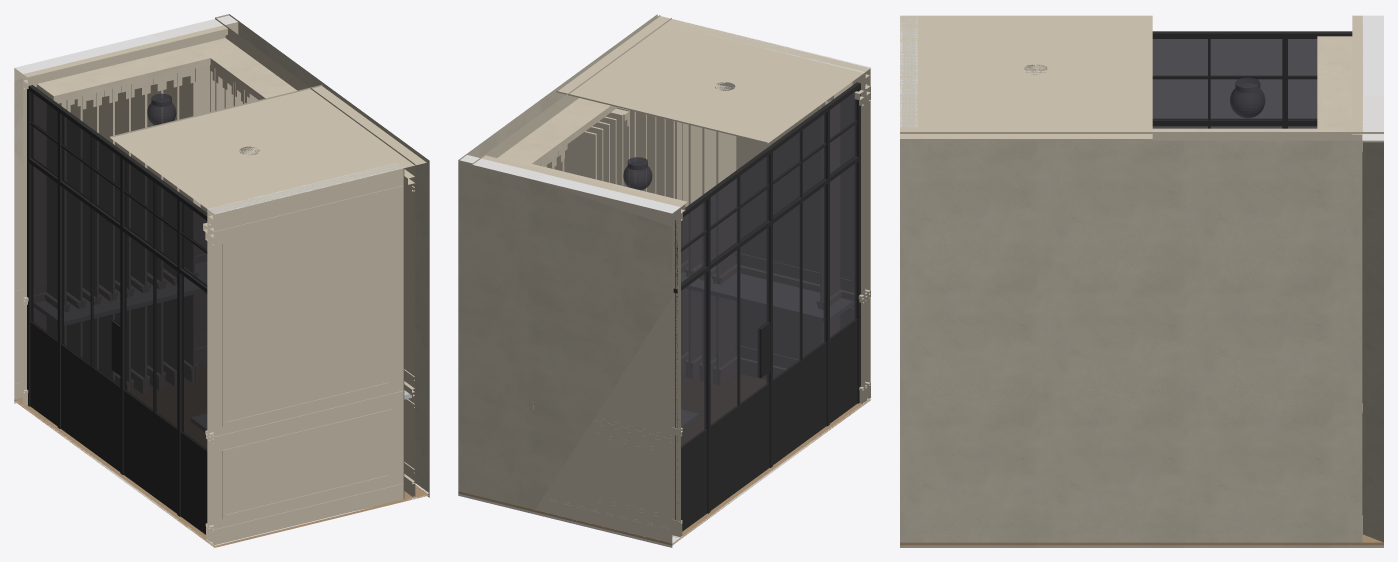
Rendered from wine-cellar-b97b3fc089f1.glb.
The picture shows the model from 3 angles, left to right: view 1: azimuth 30°, elevation 25°; view 2: azimuth 150°, elevation 25°; view 3: azimuth 270°, elevation 25°; orthographic projection. The views are drawn at different scales.
Parts seen in each view (by area): view 1: wine-cellar-bd4023b7987ad736, wine-cellar-cbd4bf73d9724a66, wine-cellar-2575515a05775d9e, wine-cellar-37ce92237345380e, wine-cellar-af97eba351c411ae, wine-cellar-bfb9fa537cd11d1d, wine-cellar-eab7131b7a8a8d98, wine-cellar-3b0077416469e01b, wine-cellar-db219ec113b632b9, wine-cellar-eac1dac976798ccd, wine-cellar-9329b5775314f375, wine-cellar-34e83ca19c16076e (+27 smaller); view 2: wine-cellar-bfb9fa537cd11d1d, wine-cellar-cbd4bf73d9724a66, wine-cellar-005133a37c0fb221, wine-cellar-2575515a05775d9e, wine-cellar-bd4023b7987ad736, wine-cellar-37ce92237345380e, wine-cellar-3b0077416469e01b, wine-cellar-2aeb8de270f937e2, wine-cellar-17d787393b241d8a, wine-cellar-21f62f280c563968, wine-cellar-af97eba351c411ae, wine-cellar-4d3683e07e2b2987 (+27 smaller); view 3: wine-cellar-af97eba351c411ae, wine-cellar-2575515a05775d9e, wine-cellar-cbd4bf73d9724a66, wine-cellar-005133a37c0fb221, wine-cellar-eab7131b7a8a8d98, wine-cellar-3b0077416469e01b, wine-cellar-bd4023b7987ad736, wine-cellar-bfb9fa537cd11d1d, wine-cellar-da912f3793a4069b, wine-cellar-76fec1e12e3db62a, wine-cellar-8da509c3b17684ba, wine-cellar-fed6ebc8ebca3bd7 (+3 smaller).
Boxes of the visible parts, x1=… form: wine-cellar-bd4023b7987ad736: x1=207, y1=163, x2=404, y2=545; wine-cellar-cbd4bf73d9724a66: x1=30, y1=85, x2=207, y2=450; wine-cellar-2575515a05775d9e: x1=110, y1=85, x2=426, y2=214; wine-cellar-37ce92237345380e: x1=30, y1=321, x2=207, y2=534; wine-cellar-af97eba351c411ae: x1=215, y1=14, x2=429, y2=496; wine-cellar-bfb9fa537cd11d1d: x1=14, y1=34, x2=160, y2=405; wine-cellar-eab7131b7a8a8d98: x1=36, y1=38, x2=241, y2=102; wine-cellar-3b0077416469e01b: x1=14, y1=363, x2=429, y2=547; wine-cellar-db219ec113b632b9: x1=99, y1=88, x2=114, y2=380; wine-cellar-eac1dac976798ccd: x1=131, y1=80, x2=147, y2=392; wine-cellar-9329b5775314f375: x1=212, y1=483, x2=403, y2=545; wine-cellar-34e83ca19c16076e: x1=222, y1=193, x2=392, y2=426; wine-cellar-bfb9fa537cd11d1d: x1=535, y1=174, x2=680, y2=543; wine-cellar-cbd4bf73d9724a66: x1=675, y1=83, x2=857, y2=520; wine-cellar-005133a37c0fb221: x1=458, y1=158, x2=543, y2=509; wine-cellar-2575515a05775d9e: x1=556, y1=15, x2=869, y2=143; wine-cellar-bd4023b7987ad736: x1=677, y1=22, x2=871, y2=402; wine-cellar-37ce92237345380e: x1=681, y1=319, x2=857, y2=531; wine-cellar-3b0077416469e01b: x1=458, y1=371, x2=870, y2=545; wine-cellar-2aeb8de270f937e2: x1=716, y1=131, x2=736, y2=383; wine-cellar-17d787393b241d8a: x1=500, y1=100, x2=617, y2=165; wine-cellar-21f62f280c563968: x1=681, y1=272, x2=853, y2=428; wine-cellar-af97eba351c411ae: x1=458, y1=14, x2=671, y2=171; wine-cellar-4d3683e07e2b2987: x1=688, y1=124, x2=702, y2=377; wine-cellar-af97eba351c411ae: x1=900, y1=132, x2=1383, y2=542; wine-cellar-2575515a05775d9e: x1=900, y1=15, x2=1152, y2=140; wine-cellar-cbd4bf73d9724a66: x1=1152, y1=32, x2=1351, y2=128; wine-cellar-005133a37c0fb221: x1=1362, y1=96, x2=1383, y2=542; wine-cellar-eab7131b7a8a8d98: x1=1317, y1=36, x2=1352, y2=131; wine-cellar-3b0077416469e01b: x1=900, y1=534, x2=1383, y2=545; wine-cellar-bd4023b7987ad736: x1=900, y1=15, x2=917, y2=127; wine-cellar-bfb9fa537cd11d1d: x1=1362, y1=15, x2=1383, y2=96; wine-cellar-da912f3793a4069b: x1=1152, y1=31, x2=1352, y2=38; wine-cellar-76fec1e12e3db62a: x1=900, y1=545, x2=1383, y2=547; wine-cellar-8da509c3b17684ba: x1=1352, y1=15, x2=1362, y2=151; wine-cellar-fed6ebc8ebca3bd7: x1=1152, y1=119, x2=1317, y2=126.
Size of the model in its own units: 2.03 by 3.05 by 3.28.
Materials: 16 (4 with a texture image).
